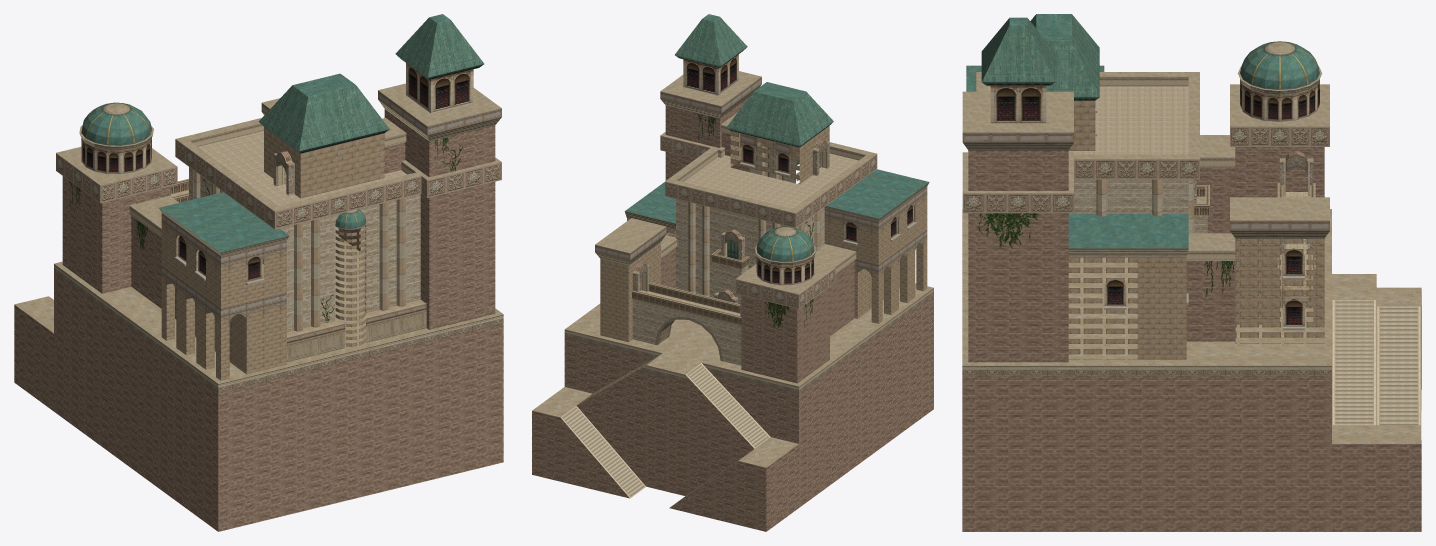
The model's file is ply_nboo_house_lg_s01_fp1_r0_mesh_l0.fbx.
3 renders of one model, left to right at view 1: azimuth 30°, elevation 25°; view 2: azimuth 150°, elevation 25°; view 3: azimuth 270°, elevation 25°, orthographic. The views are drawn at different scales.
Visible parts, largest first — view 1: mesh_node; view 2: mesh_node; view 3: mesh_node.
Part boxes in pixels (bbox=[...]): mesh_node: bbox=[14, 14, 503, 531]; mesh_node: bbox=[532, 14, 933, 531]; mesh_node: bbox=[962, 14, 1421, 531].
Bounding box in the file's own units: 33.3 × 48.5 × 41.26.
